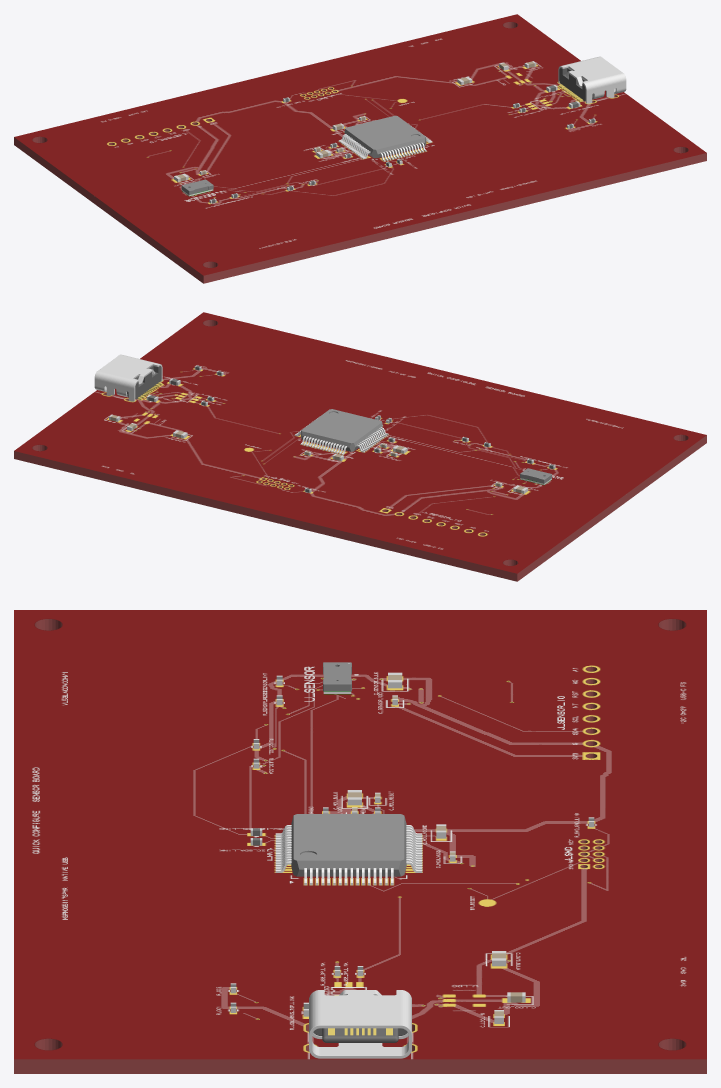
3 renders of one model, top to bottom at view 1: azimuth 30°, elevation 25°; view 2: azimuth 150°, elevation 25°; view 3: azimuth 270°, elevation 25°, orthographic. The views are drawn at different scales.
Visible parts, largest first — view 1: Box0, U_MAIN, J_USB; view 2: Box0, U_MAIN, J_USB; view 3: Box0, U_MAIN, J_USB, U_SENSOR.
Boxes of the visible parts, box(x1,y1,x2,y2) form: Box0: box(14, 14, 706, 283); U_MAIN: box(338, 115, 432, 161); J_USB: box(558, 56, 626, 103); Box0: box(14, 312, 706, 581); U_MAIN: box(294, 409, 388, 454); J_USB: box(94, 354, 162, 401); Box0: box(14, 610, 706, 1073); U_MAIN: box(275, 814, 422, 885); J_USB: box(309, 990, 411, 1058); U_SENSOR: box(323, 662, 351, 694).
Size of the model in its own units: 92.04 by 4.65 by 60.
Materials: 19 (2 with a texture image).
